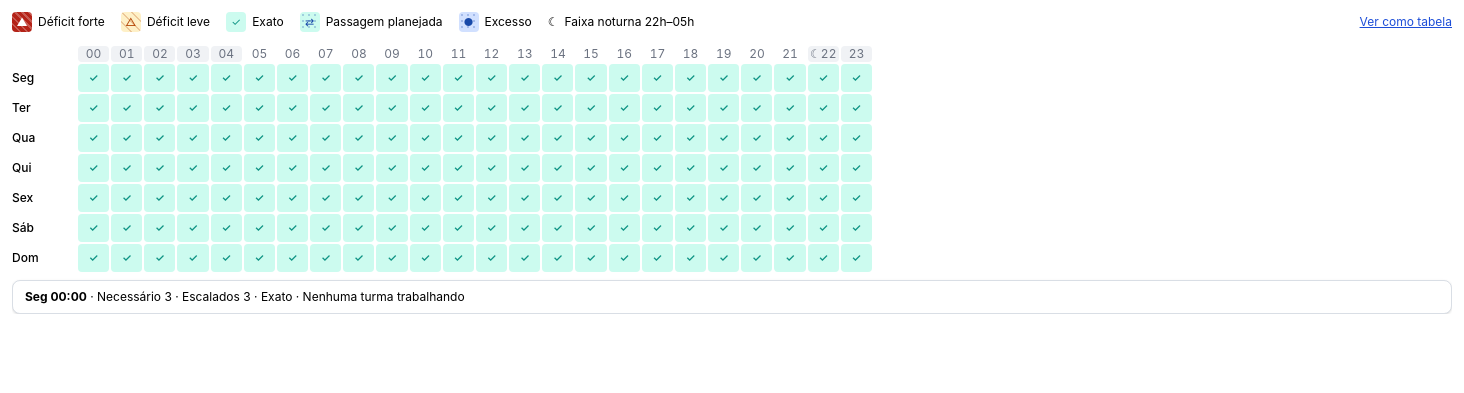
Test case: Quadro de turnos (v3.5) › heatmap lista só as turmas EFETIVAMENTE trabalhando na hora, com turno
Hover over the cell named "Segunda, 10 horas" at (425, 78), box [410,64,441,92]
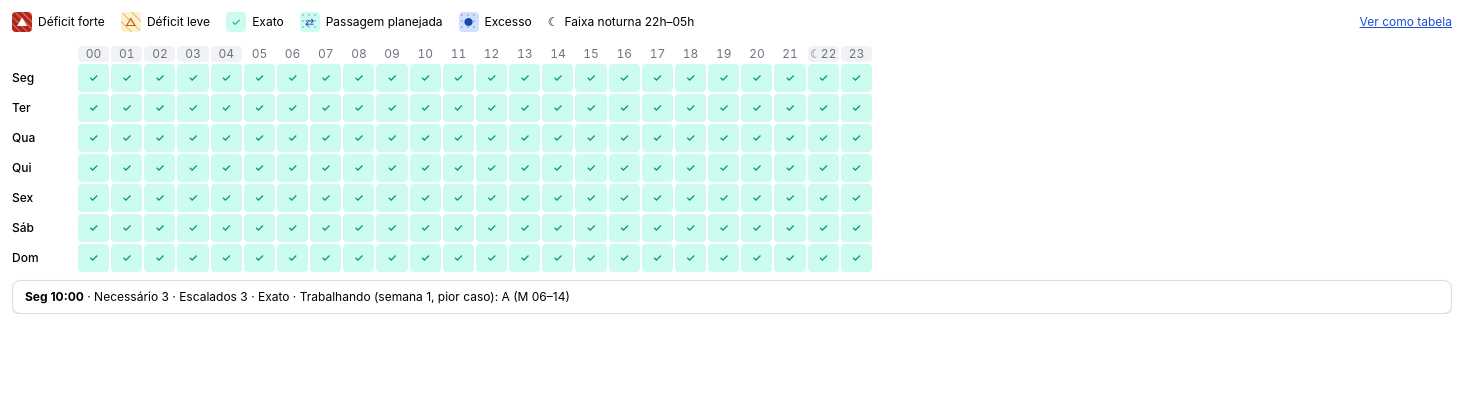
Click the cell named "Segunda, 10 horas" at (425, 78), box [410,64,441,92]
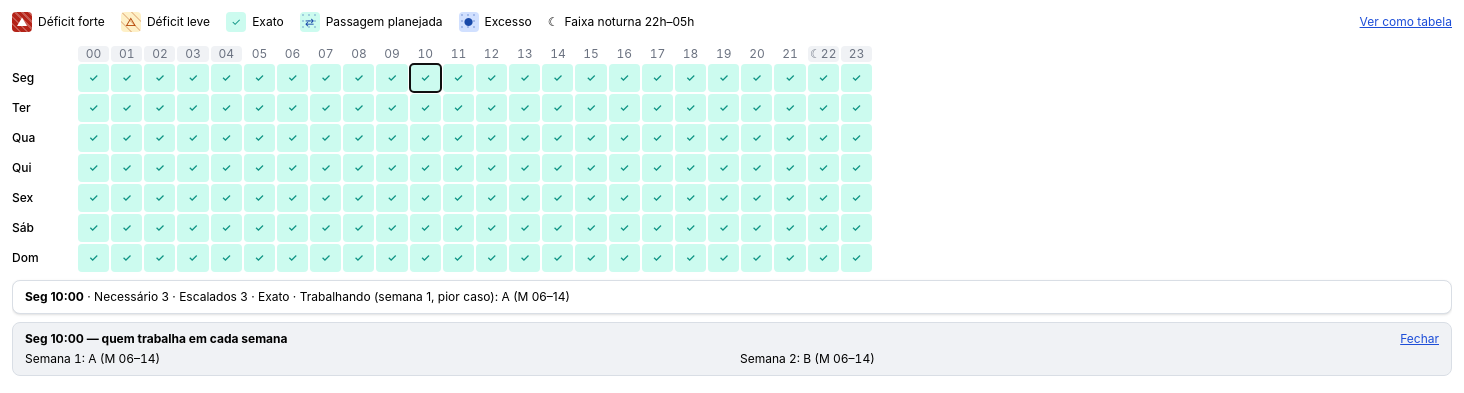
Check: the element with test id "detalhe-hora" shows "Semana 1: A (M 06–14)", box [12,322,1452,376]
